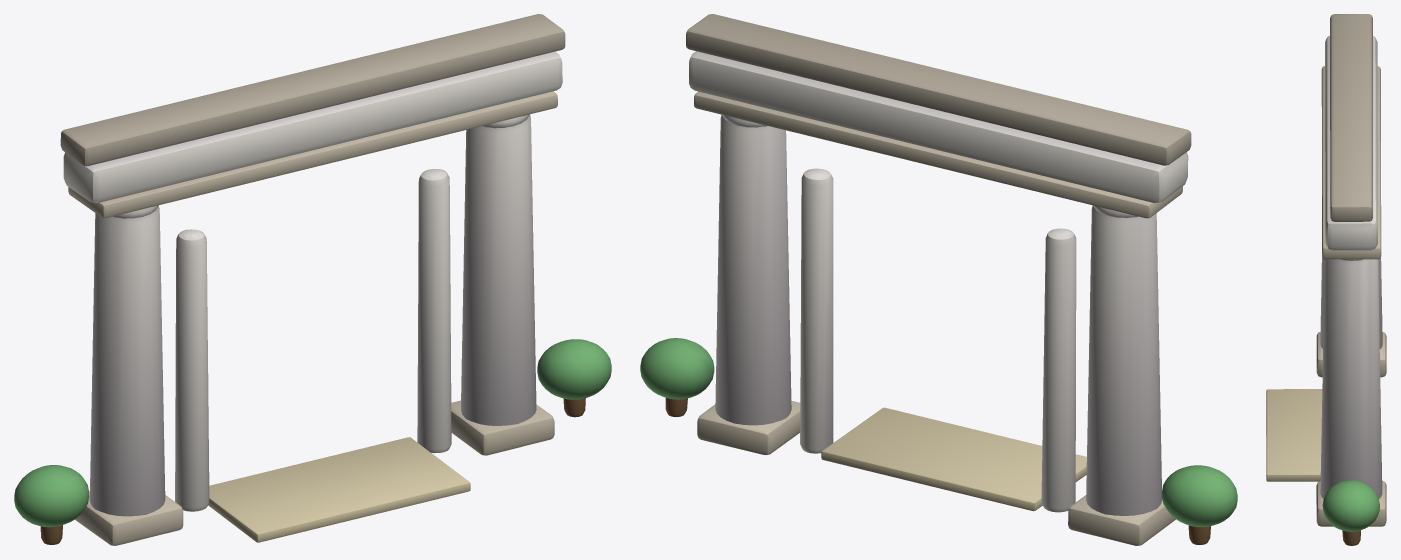
The picture shows the model from 3 angles, left to right: view 1: azimuth 30°, elevation 25°; view 2: azimuth 150°, elevation 25°; view 3: azimuth 270°, elevation 25°; orthographic projection. The views are drawn at different scales.
Parts seen in each view (by area): view 1: gate_aca4143c; view 2: gate_aca4143c; view 3: gate_aca4143c.
Boxes of the visible parts, x1,y1,x2,y2 form: gate_aca4143c: (14, 14, 611, 545); gate_aca4143c: (640, 14, 1237, 545); gate_aca4143c: (1266, 14, 1386, 545).
Size of the model in its own units: 6.6 by 4.29 by 1.42.
